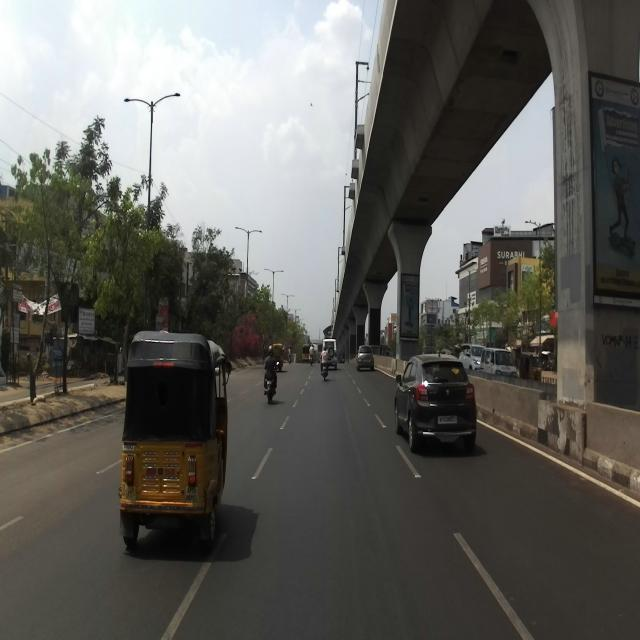autorickshaw: (118, 331, 231, 551)
car: (394, 353, 477, 452)
motorcycle: (262, 358, 280, 404)
